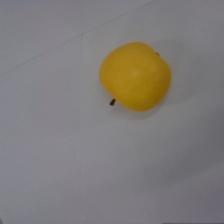yellow: (96, 38, 175, 115)
